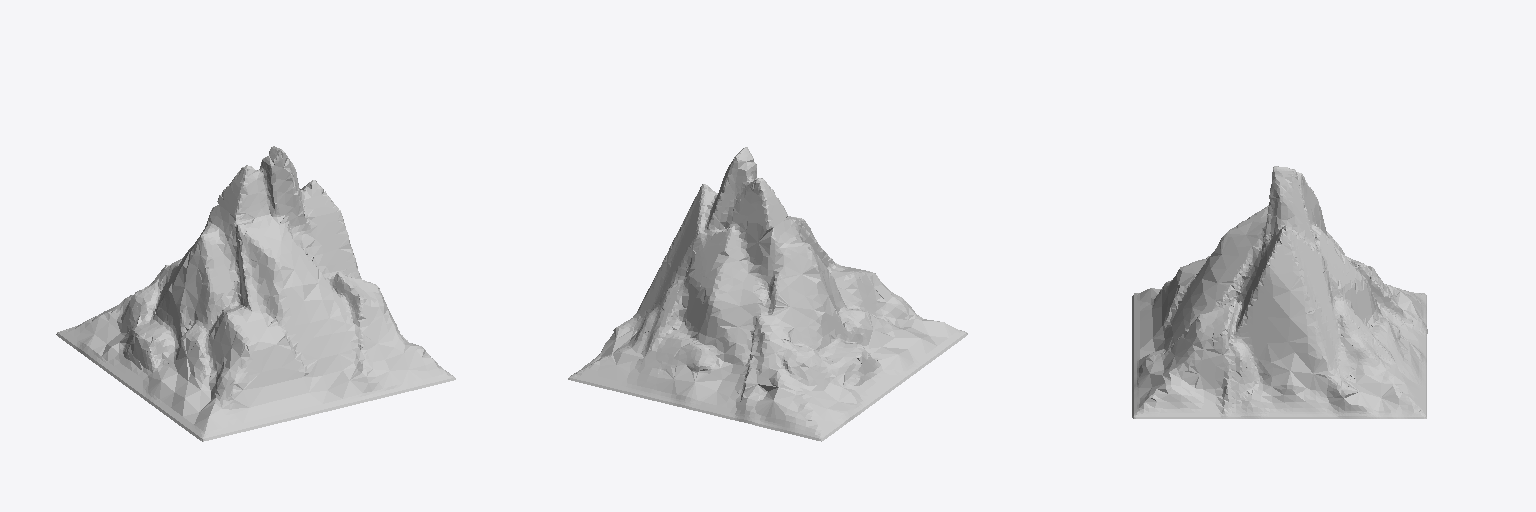
Rendered from mount3.obj.
The picture shows the model from 3 angles: view 1: azimuth 30°, elevation 25°; view 2: azimuth 150°, elevation 25°; view 3: azimuth 270°, elevation 25°; orthographic projection.
Visible parts, largest first — view 1: Plane; view 2: Plane; view 3: Plane.
Part boxes in pixels (x1,y1,x2,y2): Plane: (56, 146, 455, 441); Plane: (568, 147, 967, 441); Plane: (1132, 166, 1427, 418).
Size of the model in its own units: 1.33 by 1 by 1.33.